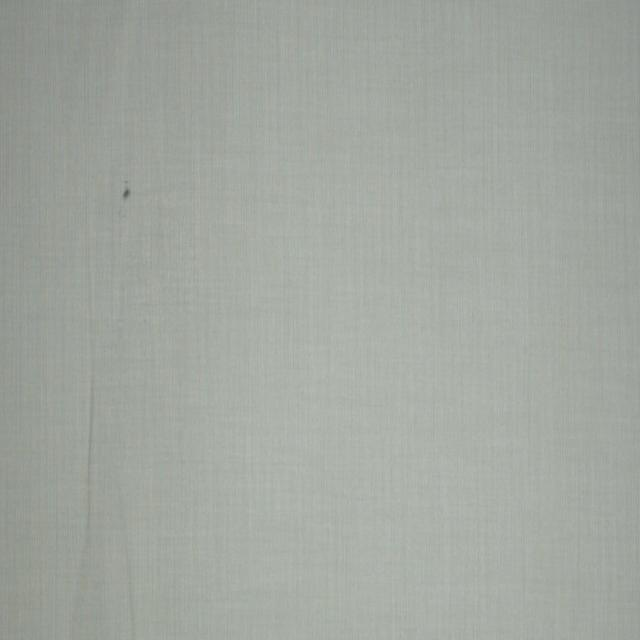dirty: (122, 175, 130, 204)
